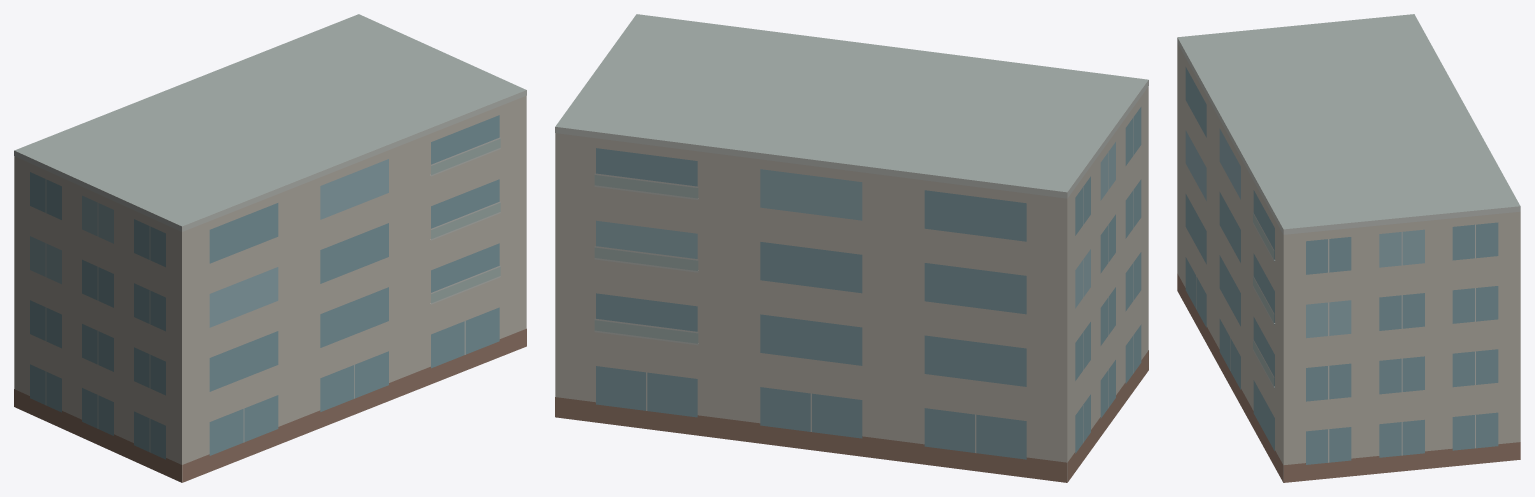
The model's file is survey-upis-32953555.glb.
The picture shows the model from 3 angles, left to right: view 1: azimuth 30°, elevation 25°; view 2: azimuth 150°, elevation 25°; view 3: azimuth 270°, elevation 25°; orthographic projection. The views are drawn at different scales.
Visible parts, largest first — view 1: survey-upis-32953555.tmp; view 2: survey-upis-32953555.tmp; view 3: survey-upis-32953555.tmp.
Boxes of the visible parts, bbox=[...] form: survey-upis-32953555.tmp: bbox=[14, 14, 526, 482]; survey-upis-32953555.tmp: bbox=[555, 14, 1148, 482]; survey-upis-32953555.tmp: bbox=[1177, 14, 1520, 482].
Bounding box in the file's own units: 20.6 × 11.3 × 13.88.
